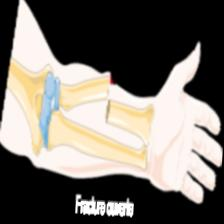open-compound-fracture: (0, 0, 224, 208)
